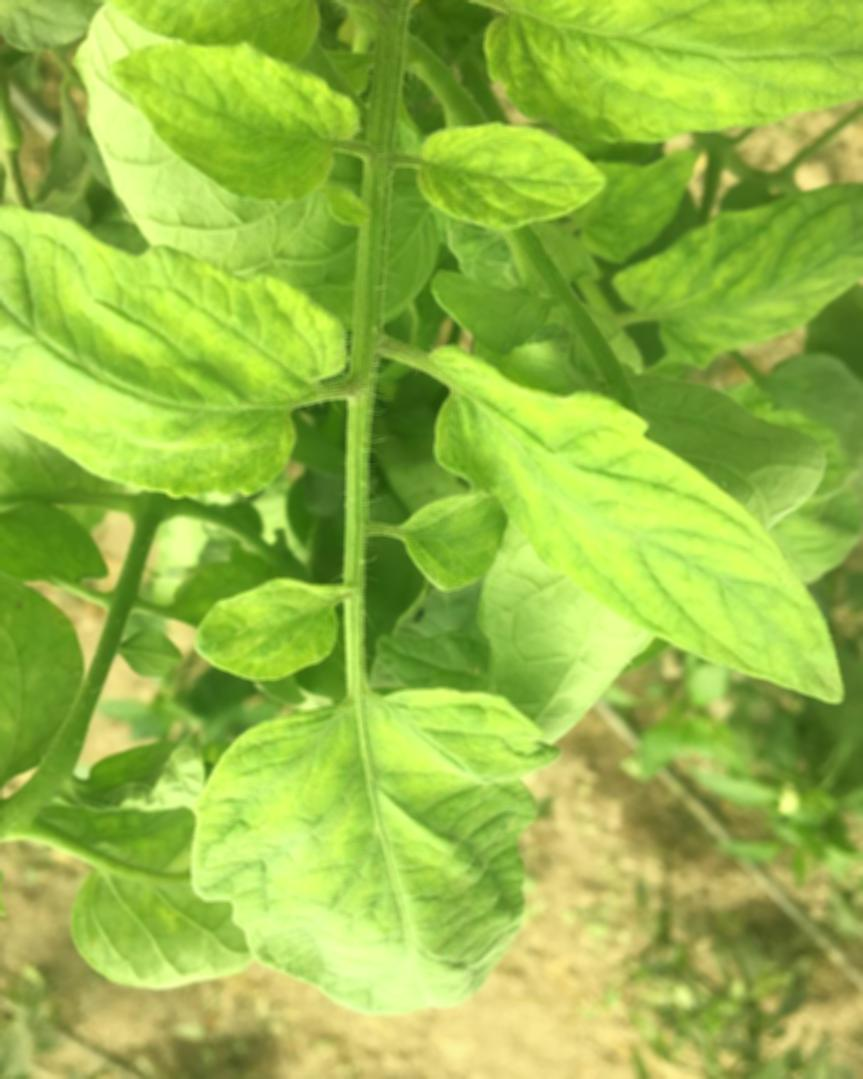Tomato leaf yellow virus: (184, 674, 560, 1036), (445, 376, 830, 702), (0, 165, 312, 501), (62, 22, 402, 257), (453, 0, 863, 169)
